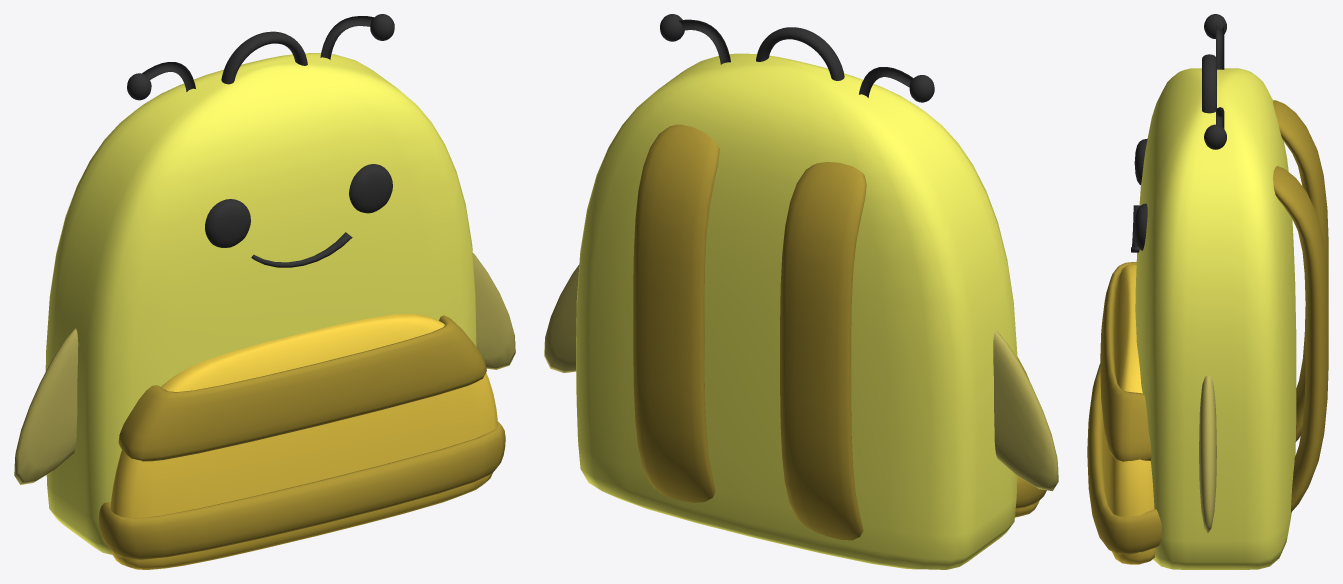
File: pawn.glb
3 views of the same model, side by side, from view 1: azimuth 30°, elevation 25°; view 2: azimuth 150°, elevation 25°; view 3: azimuth 270°, elevation 25° (orthographic). The views are drawn at different scales.
Parts seen in each view (by area): view 1: Kubus.021_36, Kubus.025_40, Kubus.024_39, Kubus.023_38, Lingkaran.012_37, NurbsPath.005_35, NurbsPath.006_41, Bola_42, Lingkaran.013_43; view 2: Kubus.021_36, Kubus.059_113, Kubus.061_114, Kubus.023_38, NurbsPath.005_35, NurbsPath.006_41, Bola_42, Kubus.025_40; view 3: Kubus.021_36, Kubus.025_40, Kubus.061_114, Kubus.024_39, Kubus.059_113, Kubus.023_38, Lingkaran.012_37, NurbsPath.005_35, Bola_42, NurbsPath.006_41.
Boxes of the visible parts, box(x1,y1,x2,y2) form: Kubus.021_36: box(45, 53, 476, 554); Kubus.025_40: box(98, 315, 505, 559); Kubus.024_39: box(110, 313, 497, 569); Kubus.023_38: box(14, 253, 515, 484); Lingkaran.012_37: box(205, 164, 392, 247); NurbsPath.005_35: box(221, 31, 307, 84); NurbsPath.006_41: box(142, 16, 373, 91); Bola_42: box(127, 14, 394, 100); Lingkaran.013_43: box(251, 232, 352, 267); Kubus.021_36: box(576, 53, 1017, 569); Kubus.059_113: box(780, 162, 866, 540); Kubus.061_114: box(633, 124, 719, 502); Kubus.023_38: box(544, 264, 1058, 491); NurbsPath.005_35: box(756, 27, 844, 80); NurbsPath.006_41: box(677, 19, 913, 97); Bola_42: box(660, 14, 934, 102); Kubus.025_40: box(1015, 357, 1046, 508); Kubus.021_36: box(1135, 68, 1296, 569); Kubus.025_40: box(1087, 262, 1161, 554); Kubus.061_114: box(1273, 166, 1328, 512); Kubus.024_39: box(1102, 264, 1155, 564); Kubus.059_113: box(1273, 100, 1328, 441); Kubus.023_38: box(1199, 375, 1216, 533); Lingkaran.012_37: box(1134, 138, 1147, 250); NurbsPath.005_35: box(1202, 54, 1216, 113); Bola_42: box(1204, 14, 1226, 149); NurbsPath.006_41: box(1216, 21, 1224, 128).
Bounding box in the file's own units: 2.89 × 2.57 × 1.29.
